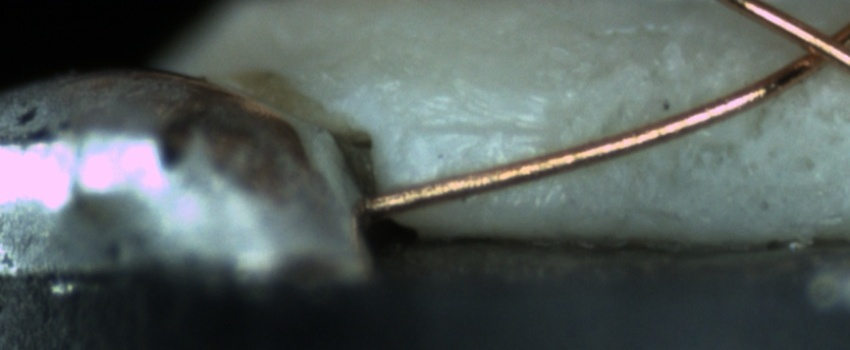CL: (777, 10, 849, 81)
DL: (406, 97, 546, 158)
